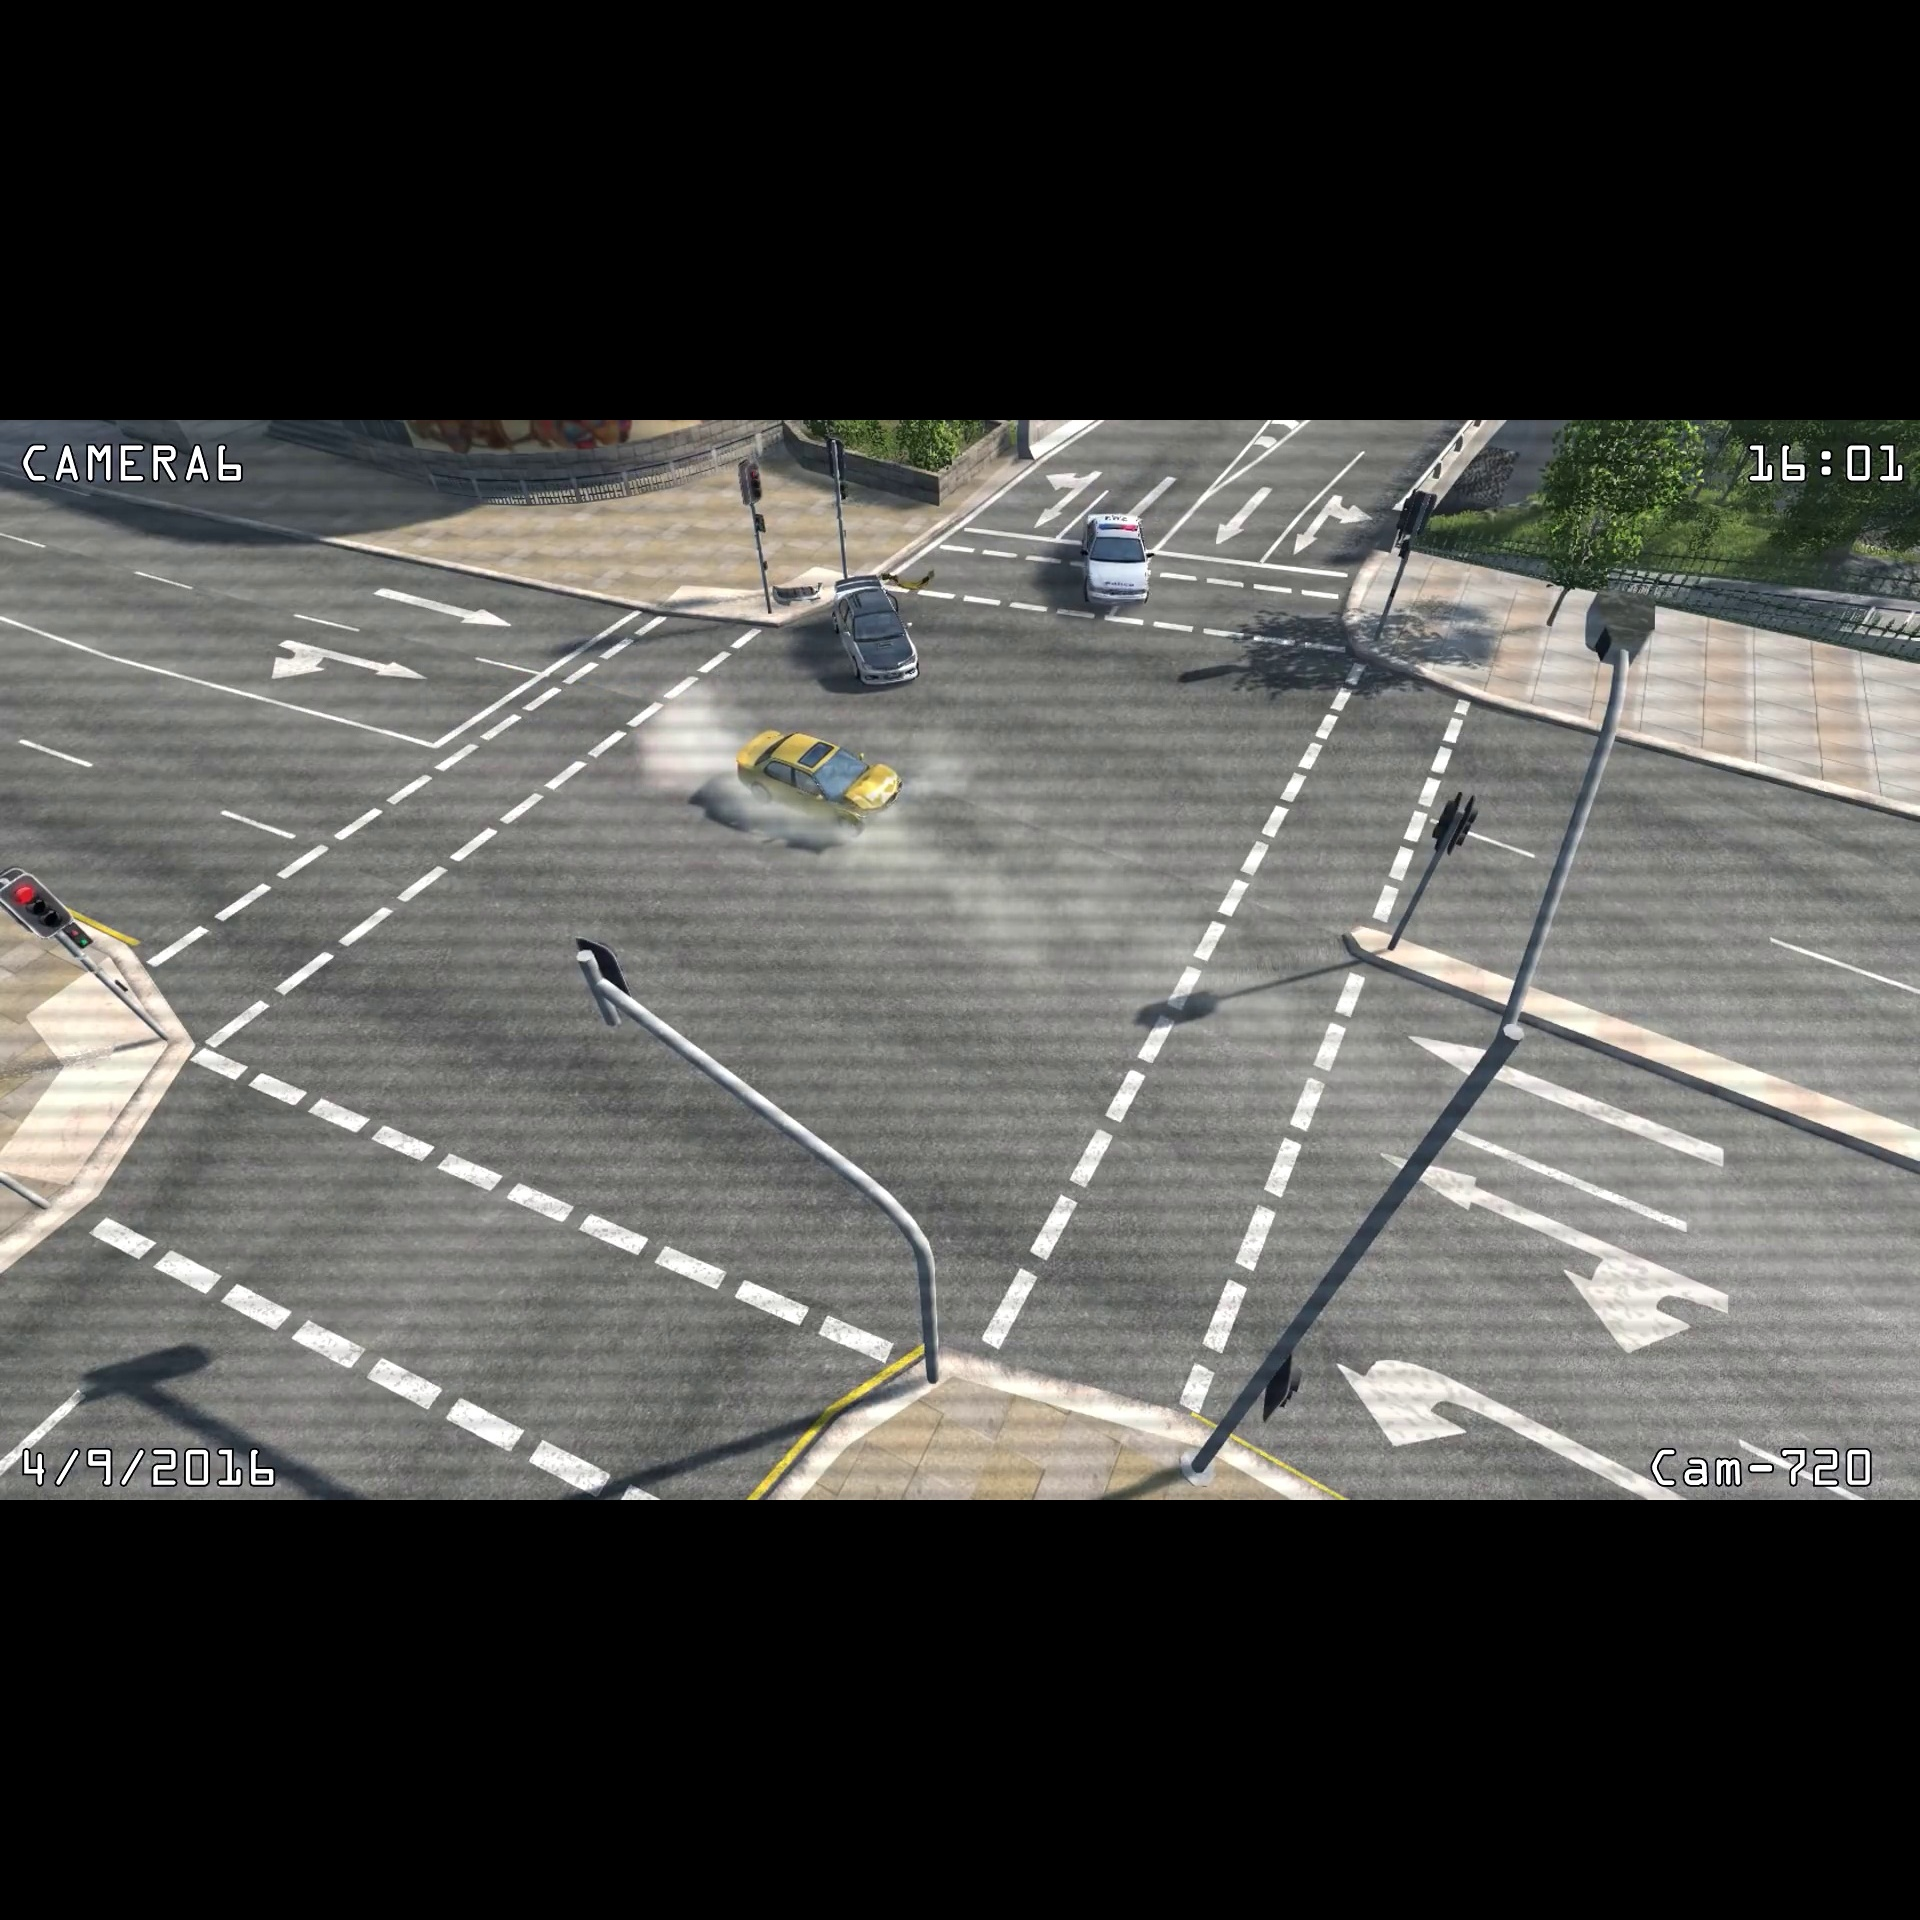vehicle: (730, 723, 907, 835), (825, 571, 921, 695), (1073, 506, 1153, 610)
